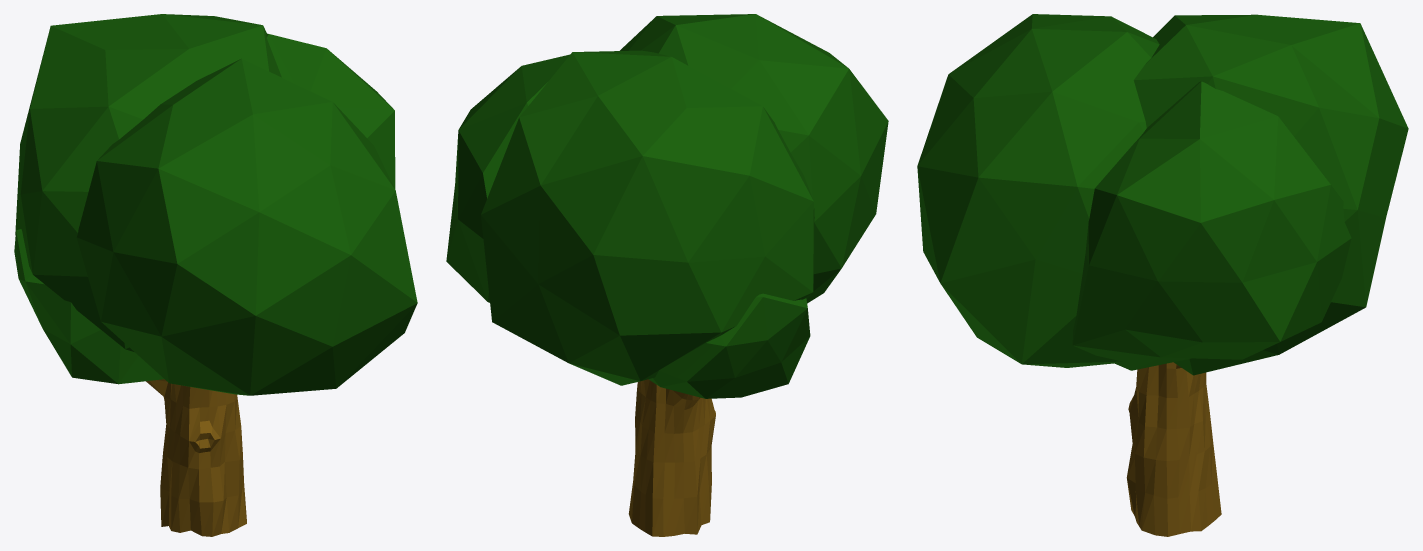
Rendered from tree 1.fbx.
3 renders of one model, left to right at view 1: azimuth 30°, elevation 25°; view 2: azimuth 150°, elevation 25°; view 3: azimuth 270°, elevation 25°, orthographic. The views are drawn at different scales.
Visible parts, largest first — view 1: Icosphere, Cylinder; view 2: Icosphere, Cylinder; view 3: Icosphere, Cylinder.
Boxes of the visible parts, x1,y1,x2,y2 form: Icosphere: (14,14,417,395); Cylinder: (146,379,246,536); Icosphere: (446,14,888,398); Cylinder: (628,379,715,536); Icosphere: (917,14,1408,375); Cylinder: (1126,362,1221,536).
Size of the model in its own units: 16499 by 21824 by 19569.
Materials: 1 (1 with a texture image).
